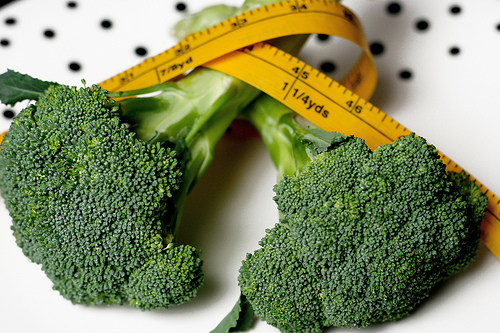broccoli: (1, 1, 315, 313), (205, 89, 487, 331)
